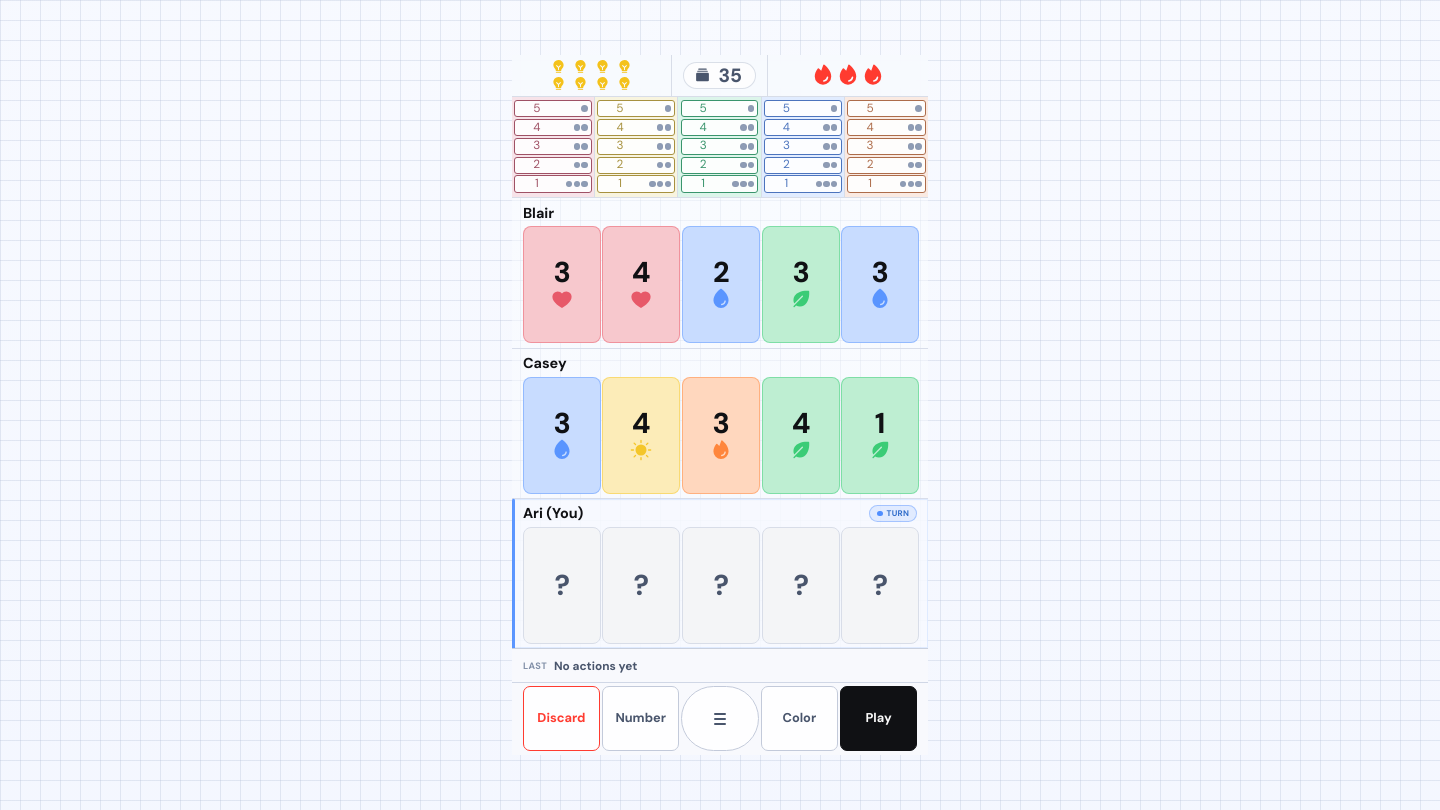
Test: App local debug wiring › turn sound toggle defaults on and persists from burger menu
Click the button with test id "actions-menu".
click(720, 719)  # box [682, 686, 759, 751]
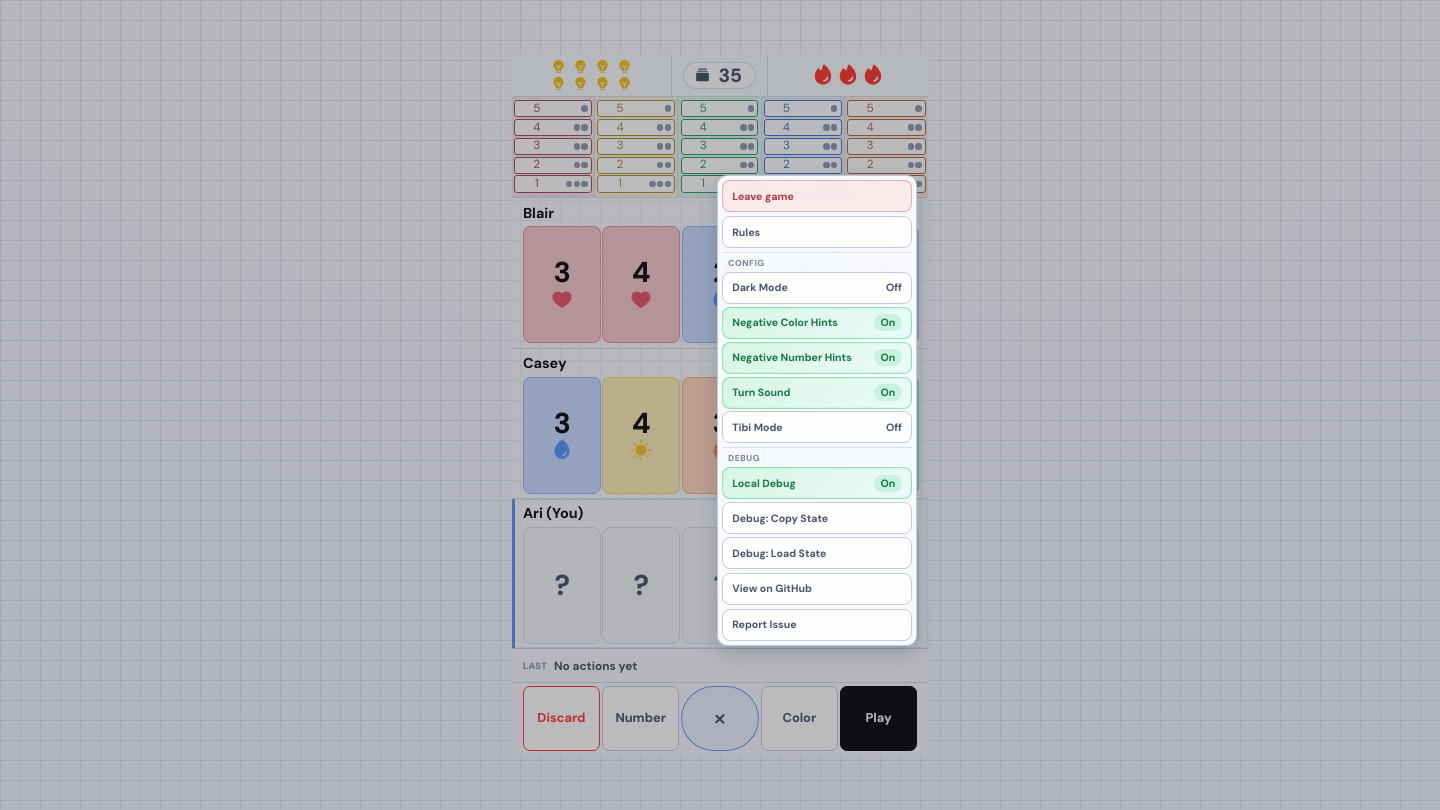
Check: the text with test id "menu-turn-sound-value" reads "On", box [880, 386, 895, 399]
Click the button with test id "menu-turn-sound-toggle".
click(817, 393)  # box [722, 377, 912, 409]
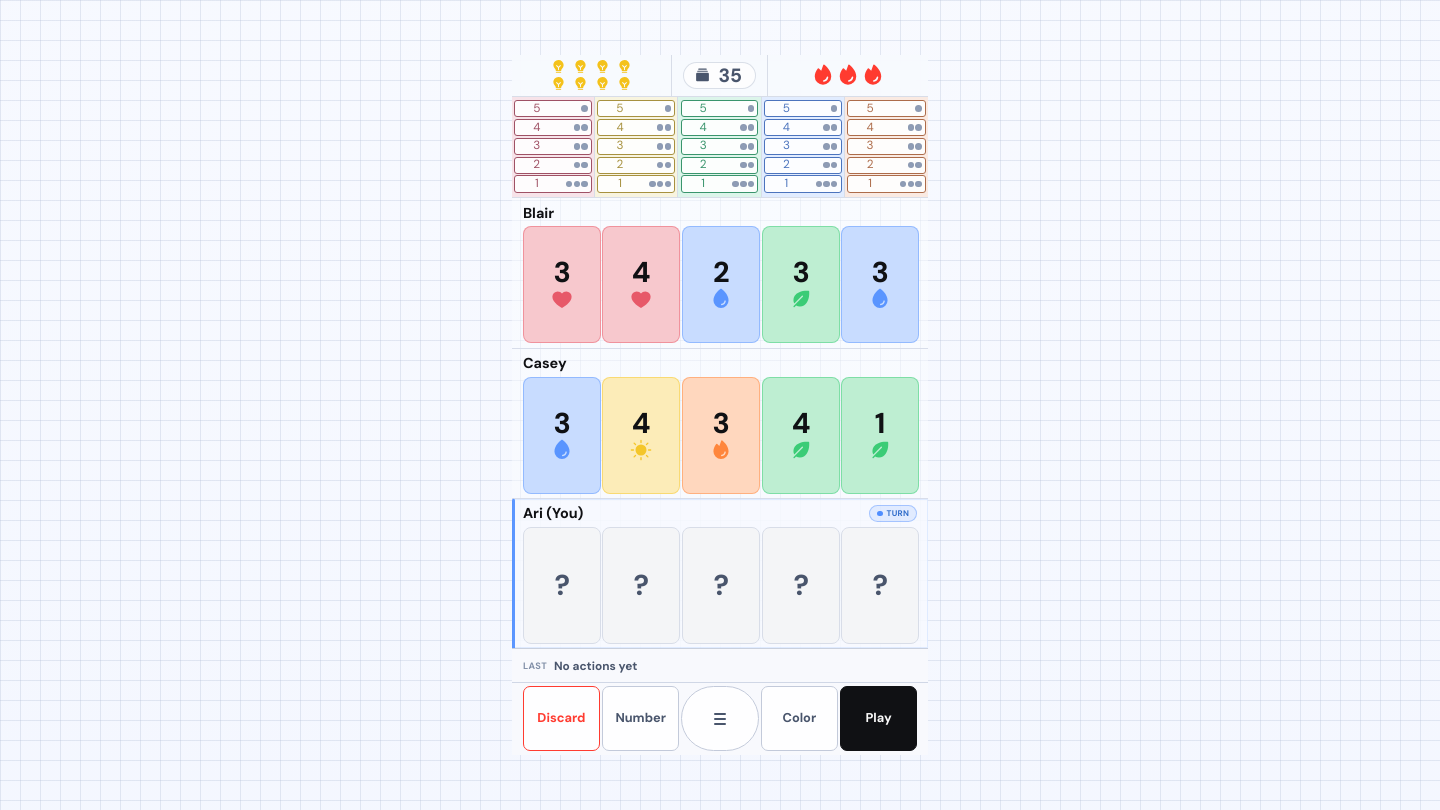
Click the button with test id "actions-menu".
click(720, 719)  # box [682, 686, 759, 751]
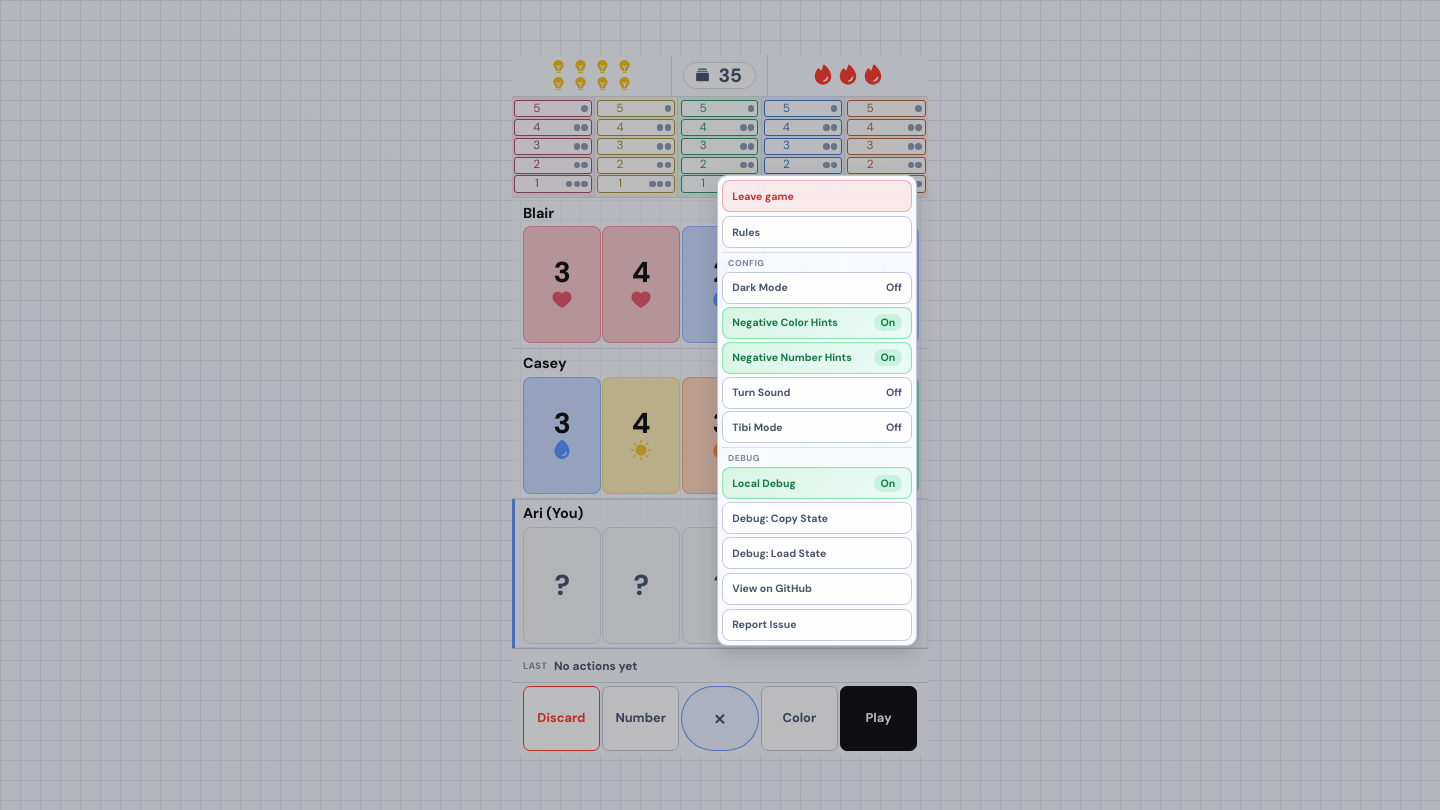
Check: the text with test id "menu-turn-sound-value" reads "Off", box [886, 386, 902, 399]
